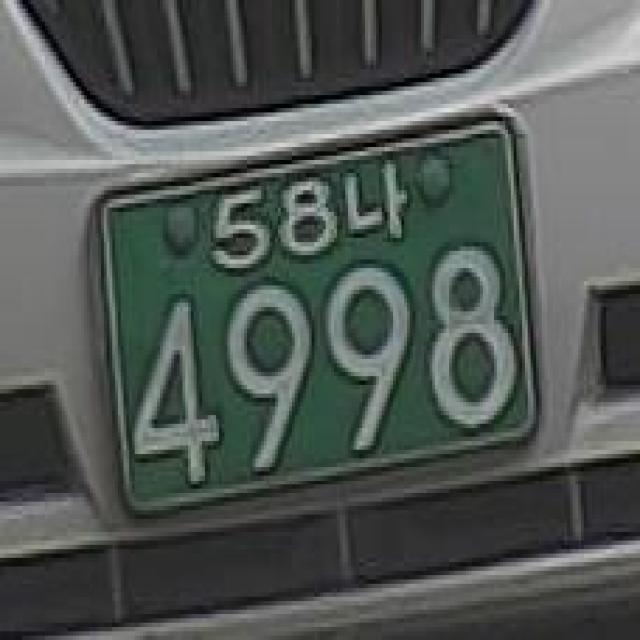illegal_plate: (85, 106, 553, 538)
